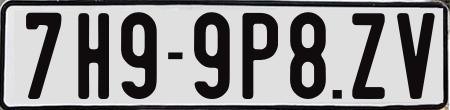7: (25, 10, 65, 96)
8: (290, 11, 330, 98)
9: (191, 12, 230, 99), (118, 10, 155, 100)
H: (76, 10, 107, 97)
P: (240, 13, 280, 101)
V: (396, 13, 437, 102)
Z: (351, 10, 389, 97)
